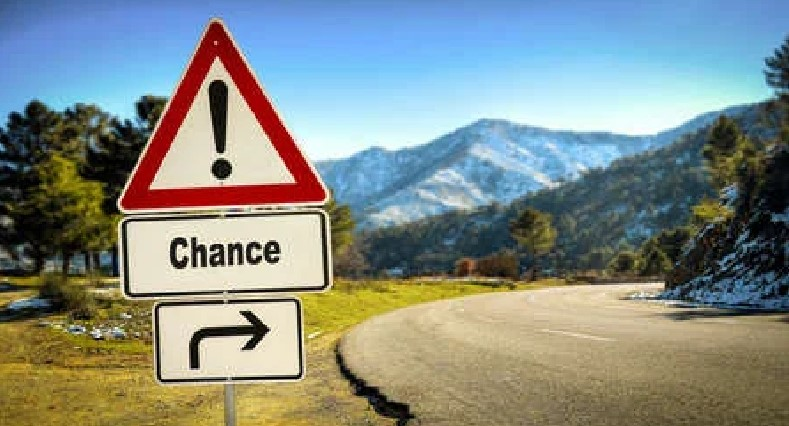Danger: (115, 13, 333, 210)
